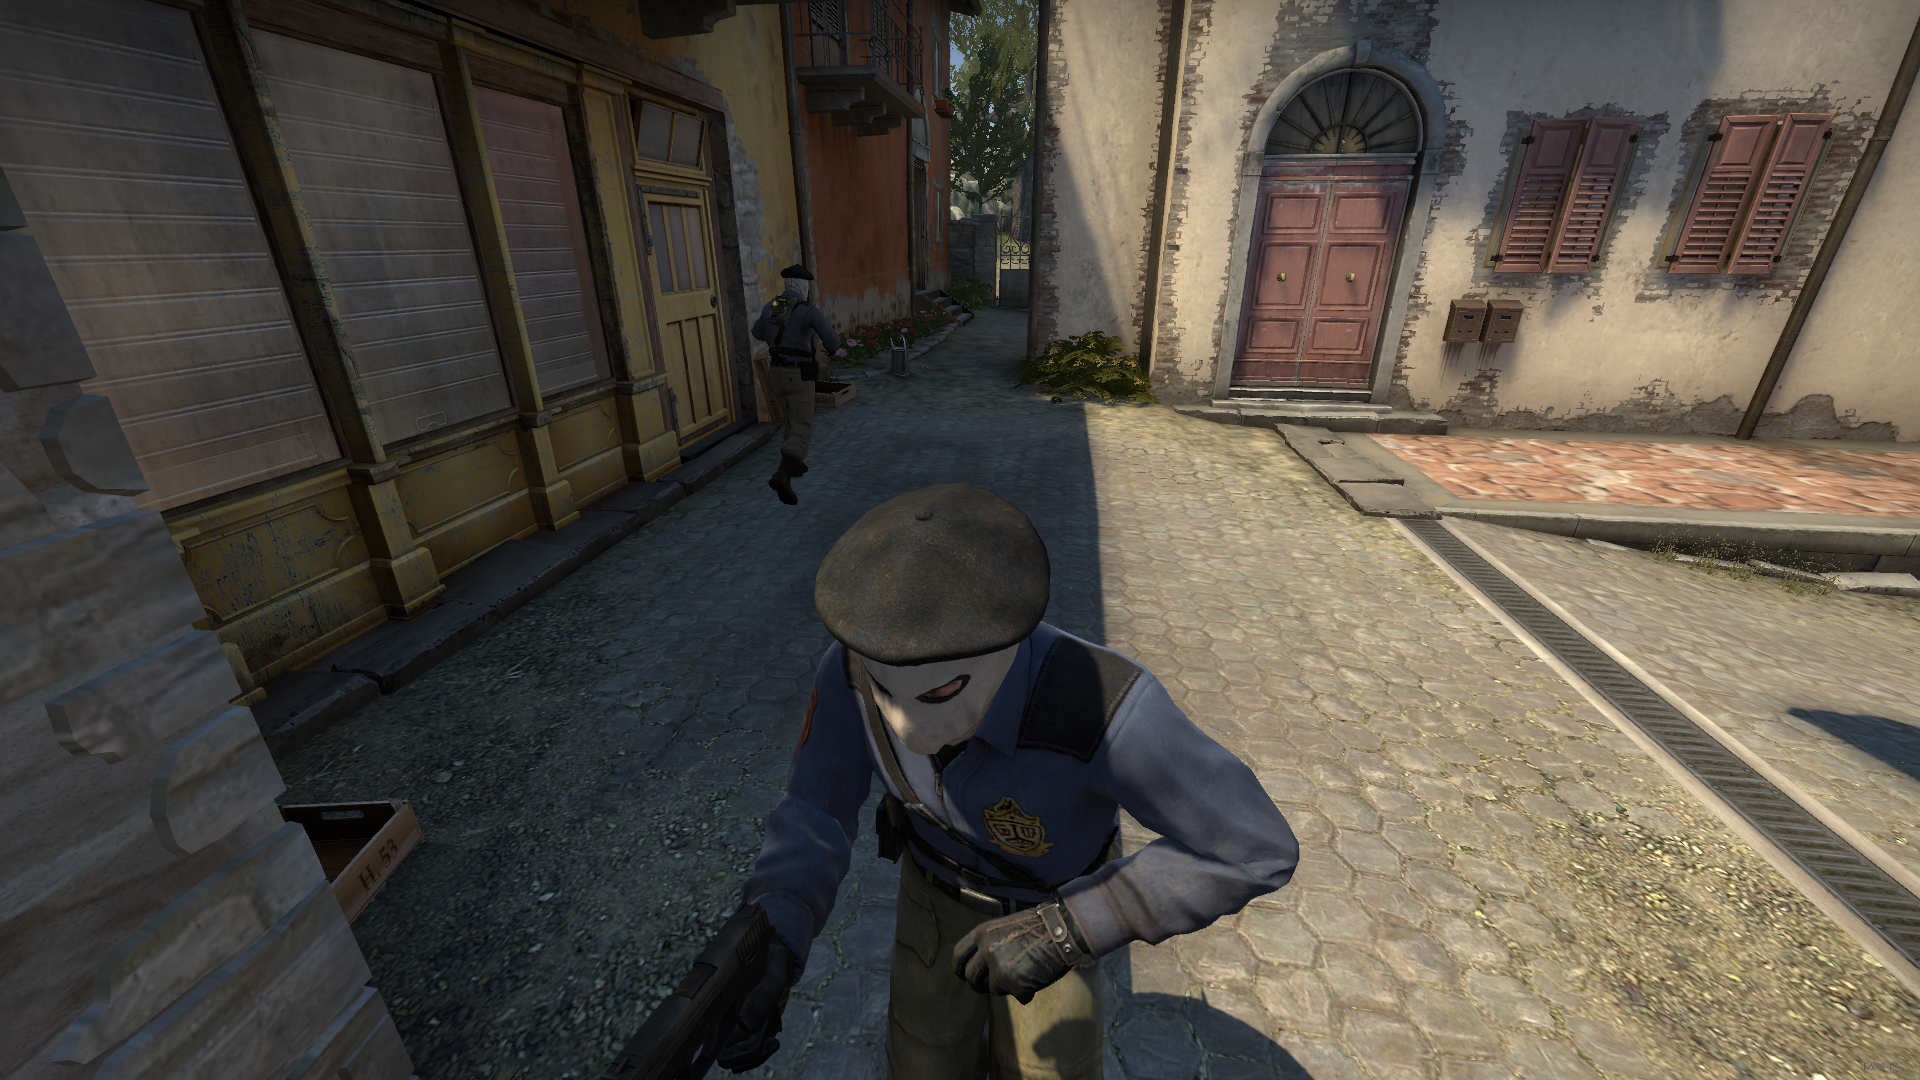t: (636, 479, 1312, 1080), (737, 255, 855, 512)
